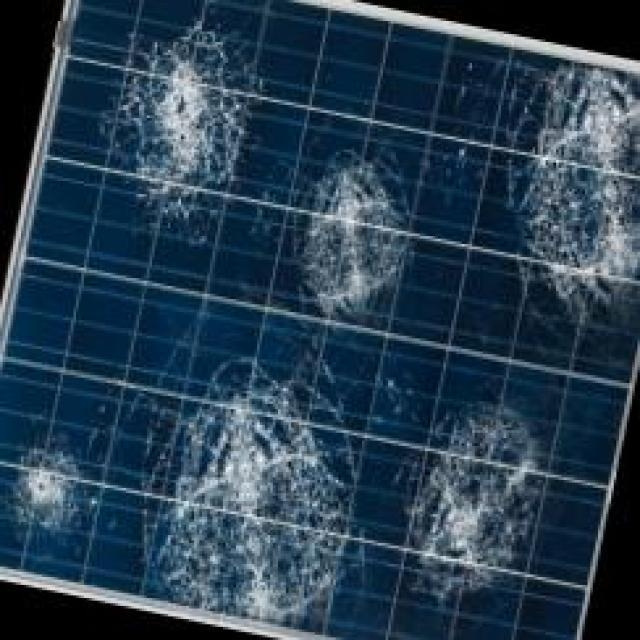Physical-damage: (138, 372, 372, 640), (378, 394, 579, 598), (501, 61, 640, 309), (120, 2, 272, 211), (304, 156, 436, 308), (8, 420, 108, 554)
